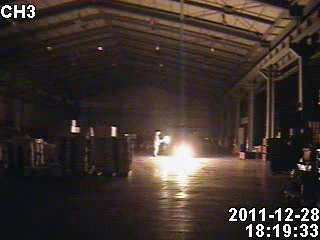fire: (170, 140, 198, 161)
